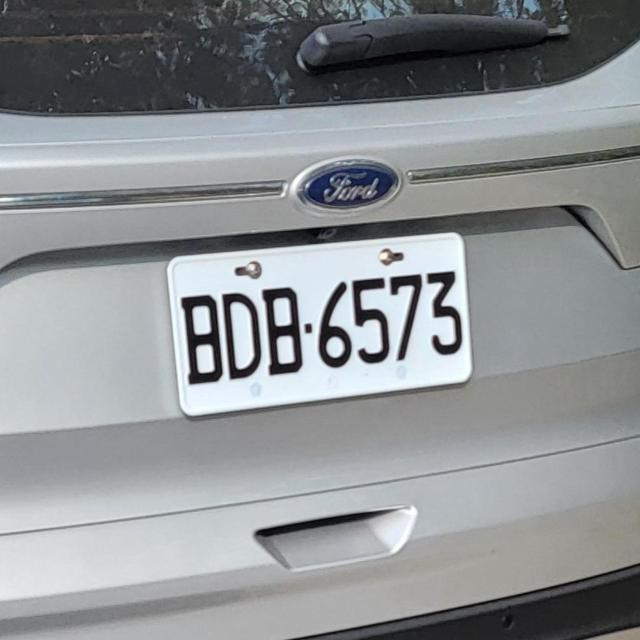W: (160, 226, 483, 424)
